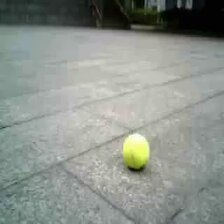tennis: (123, 134, 150, 168)
